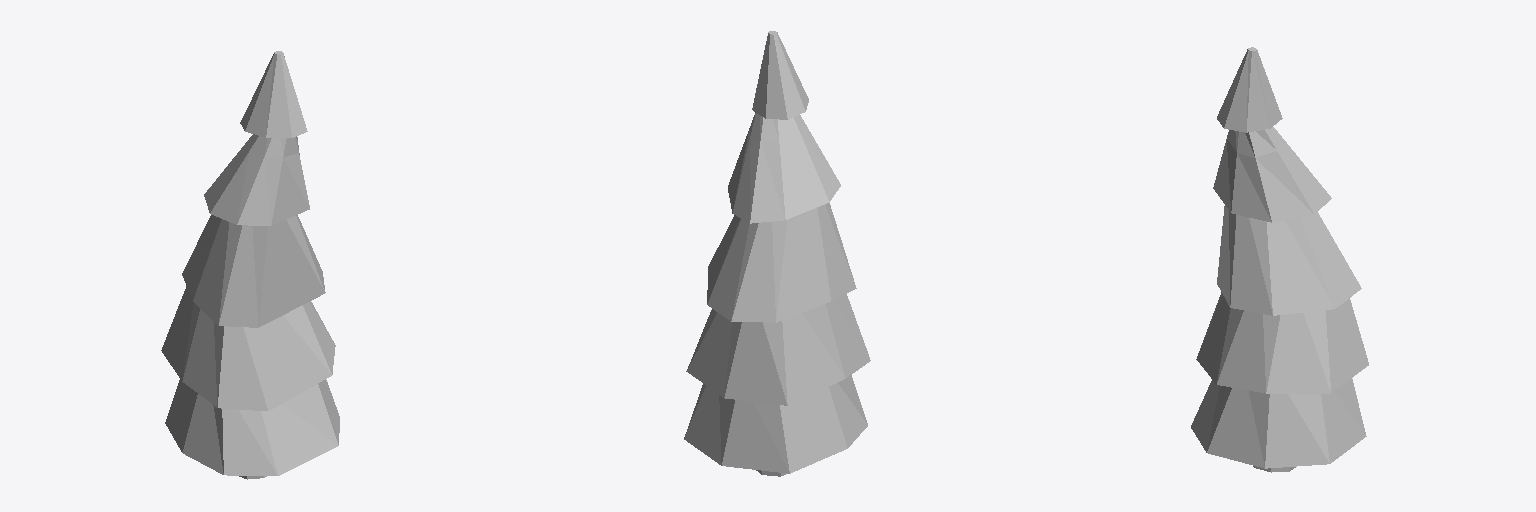
The model's file is tree3.obj.
3 views of the same model, side by side, from view 1: azimuth 30°, elevation 25°; view 2: azimuth 150°, elevation 25°; view 3: azimuth 270°, elevation 25° (orthographic).
Visible parts, largest first — view 1: pine_tree_1_var_1; view 2: pine_tree_1_var_1; view 3: pine_tree_1_var_1.
Boxes of the visible parts, x1,y1,x2,y2 form: pine_tree_1_var_1: [161, 51, 339, 479]; pine_tree_1_var_1: [684, 31, 870, 476]; pine_tree_1_var_1: [1191, 47, 1368, 472].
Size of the model in its own units: 10.74 by 28.24 by 10.84.